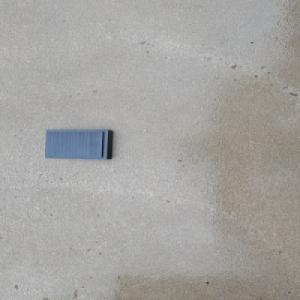PlasticPart: (43, 128, 113, 160)
